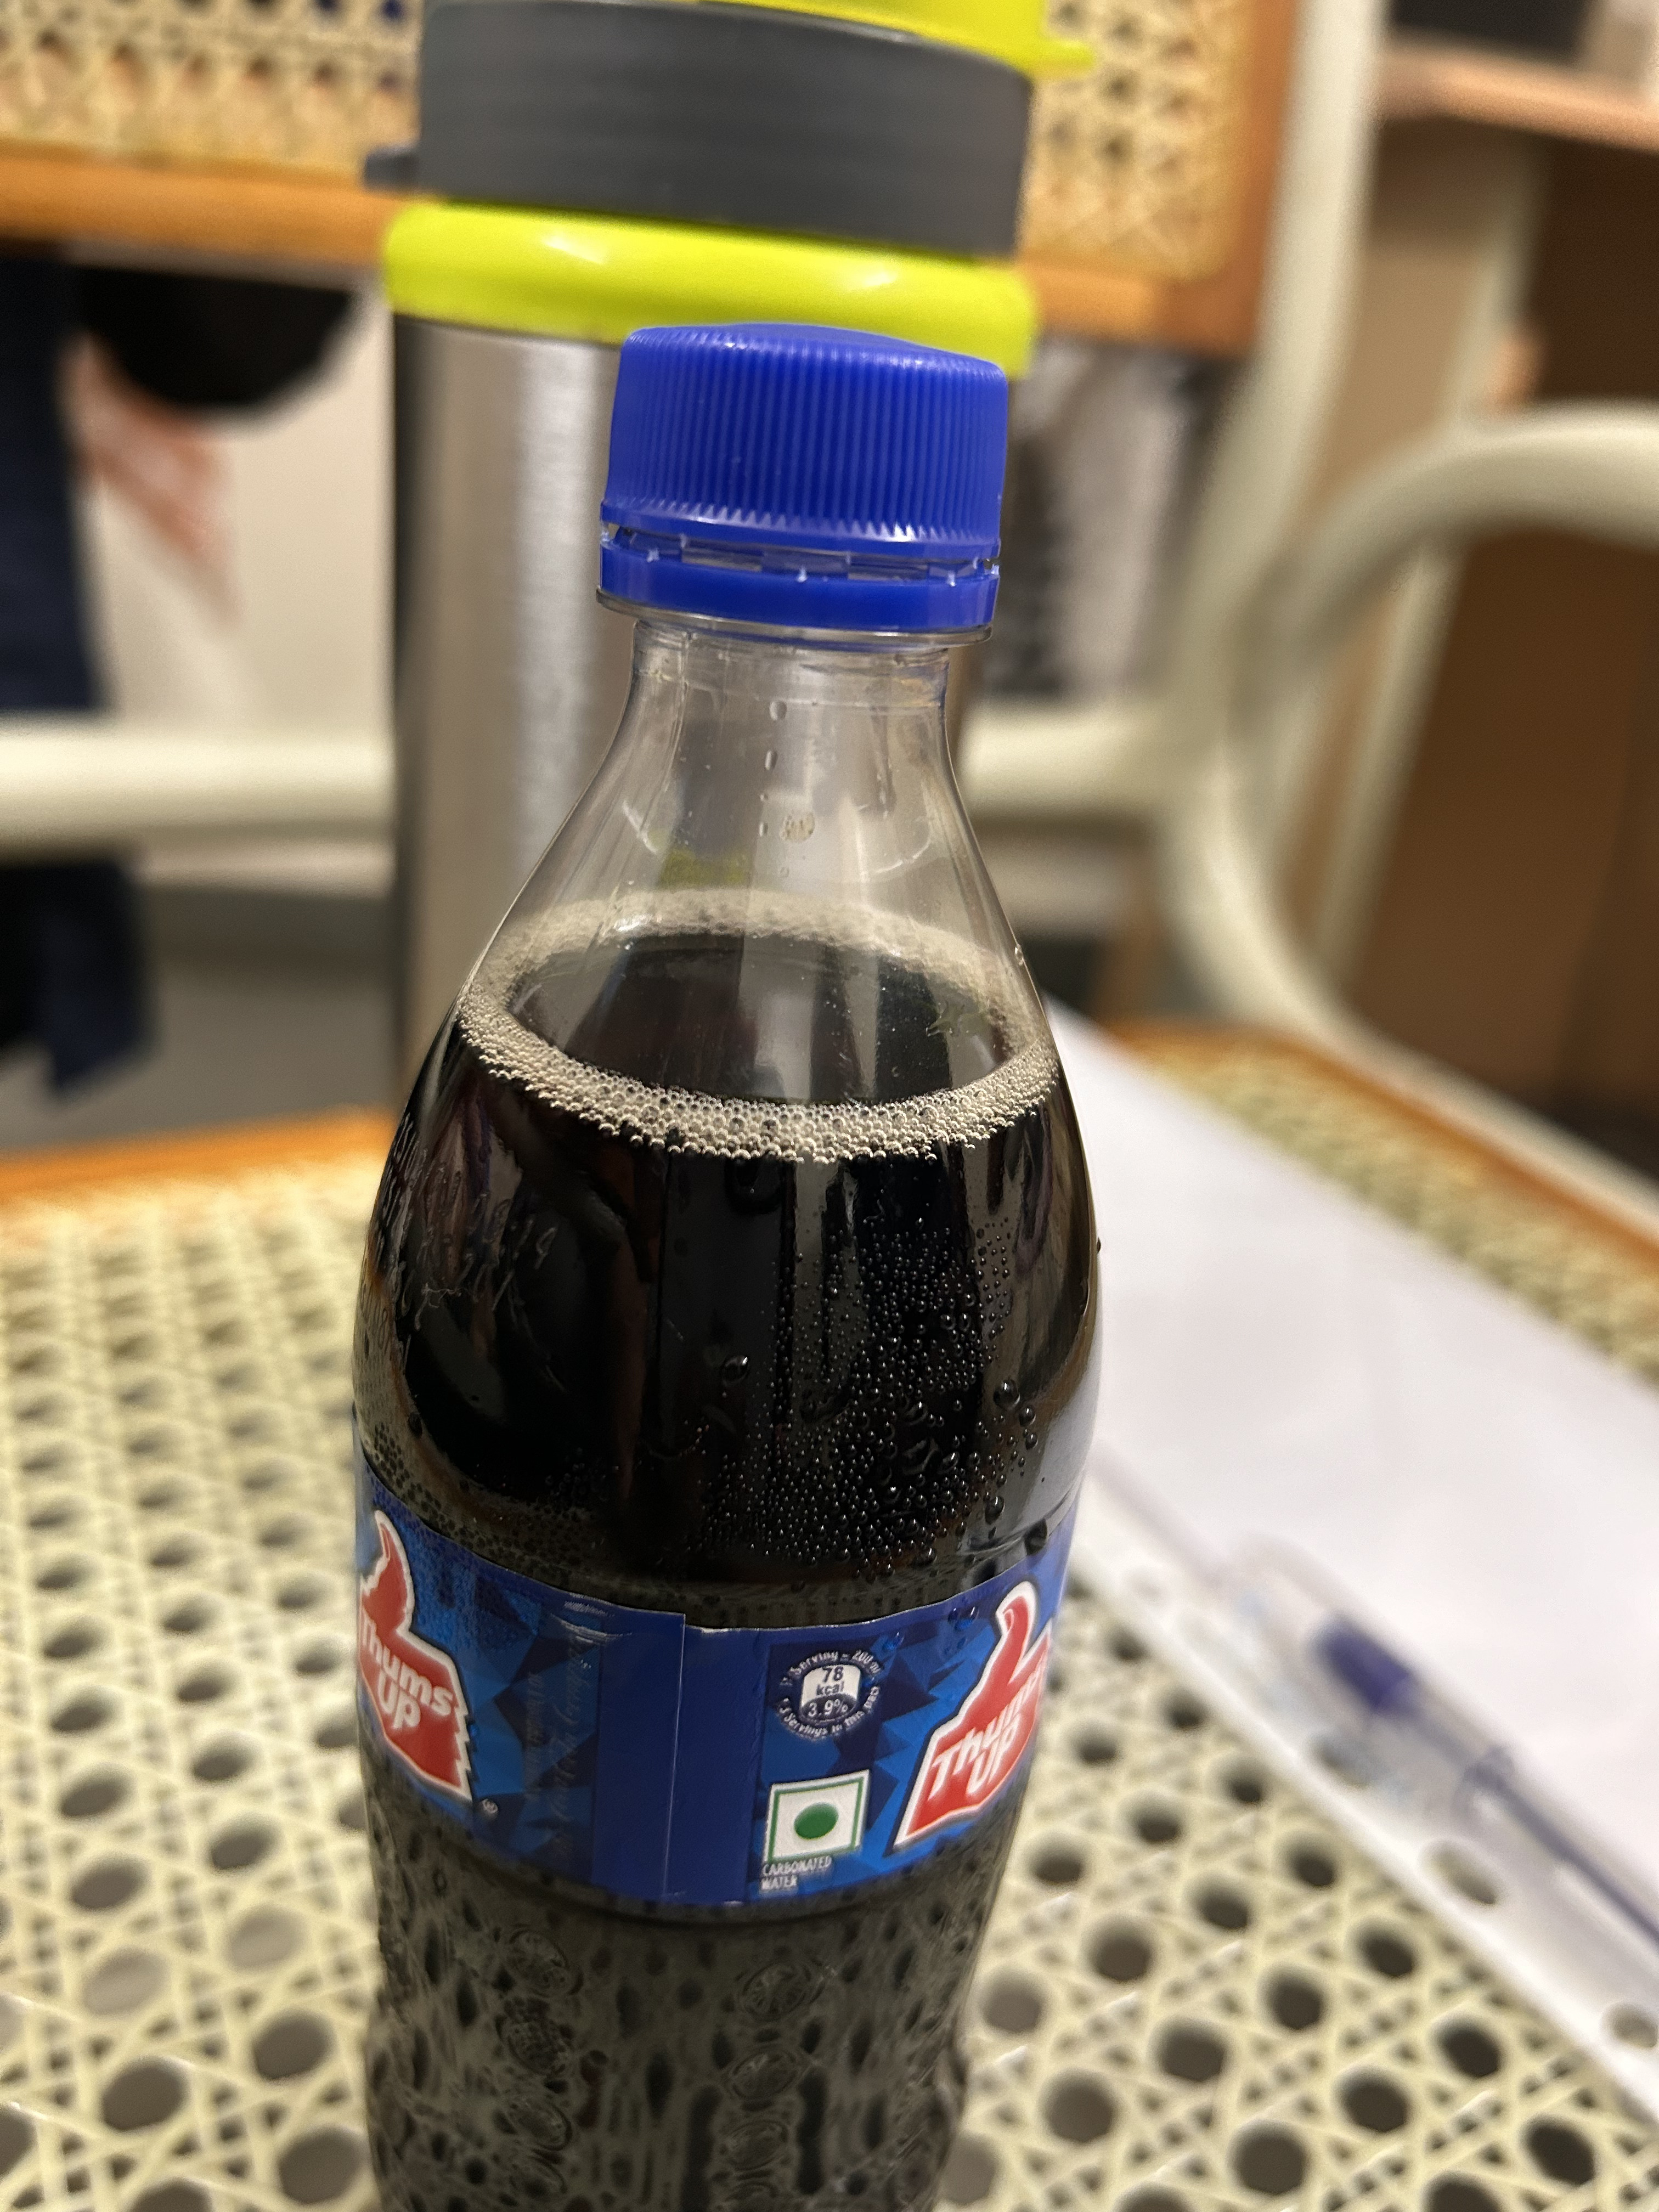unsealed: (579, 307, 1021, 892)
